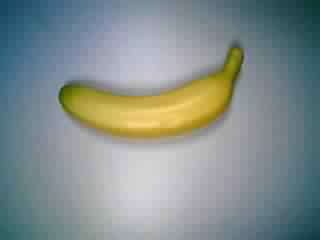banana: (54, 43, 248, 142)
